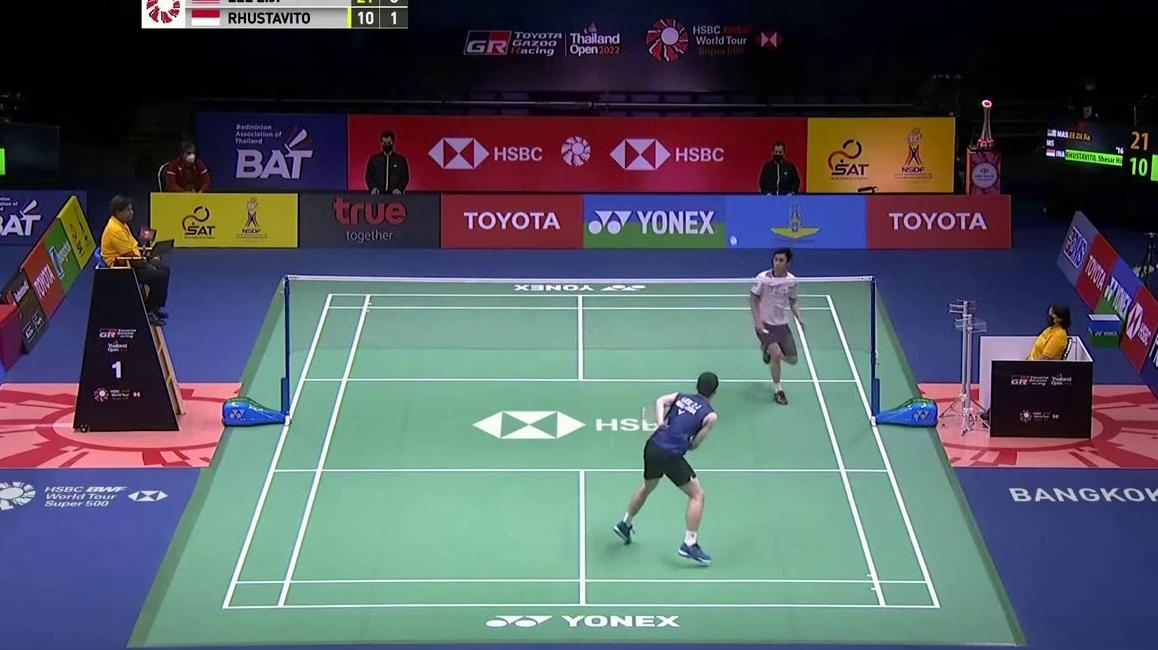racket: (643, 404, 696, 446), (757, 323, 812, 354)
shuttle: (729, 235, 738, 245)
